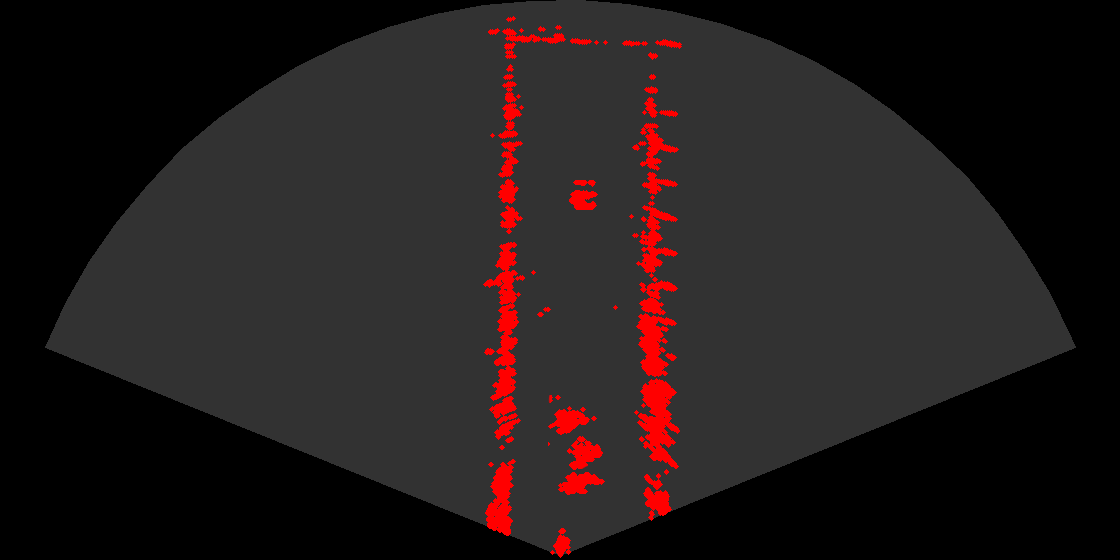AUV: (552, 470, 608, 502)
ball: (549, 172, 609, 213)
cage: (548, 395, 611, 479)
